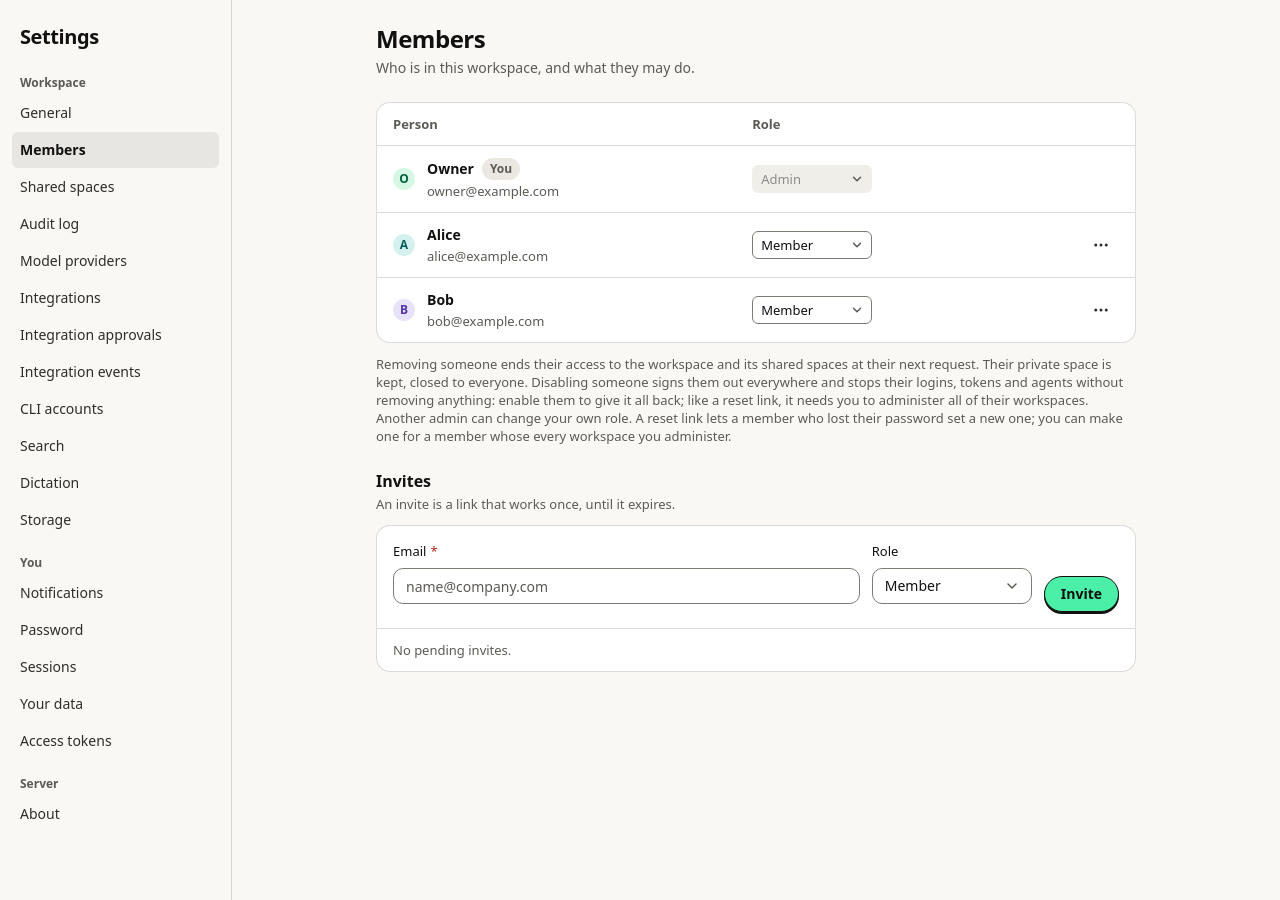
Test case: with password login off, a member has no reset link action
expect the text "alice@example.com" is shown: met, box left=427, top=247, right=548, bottom=265
Click the button named "More actions for Alice" at x=1101, y=245, box left=1083, top=227, right=1119, bottom=263
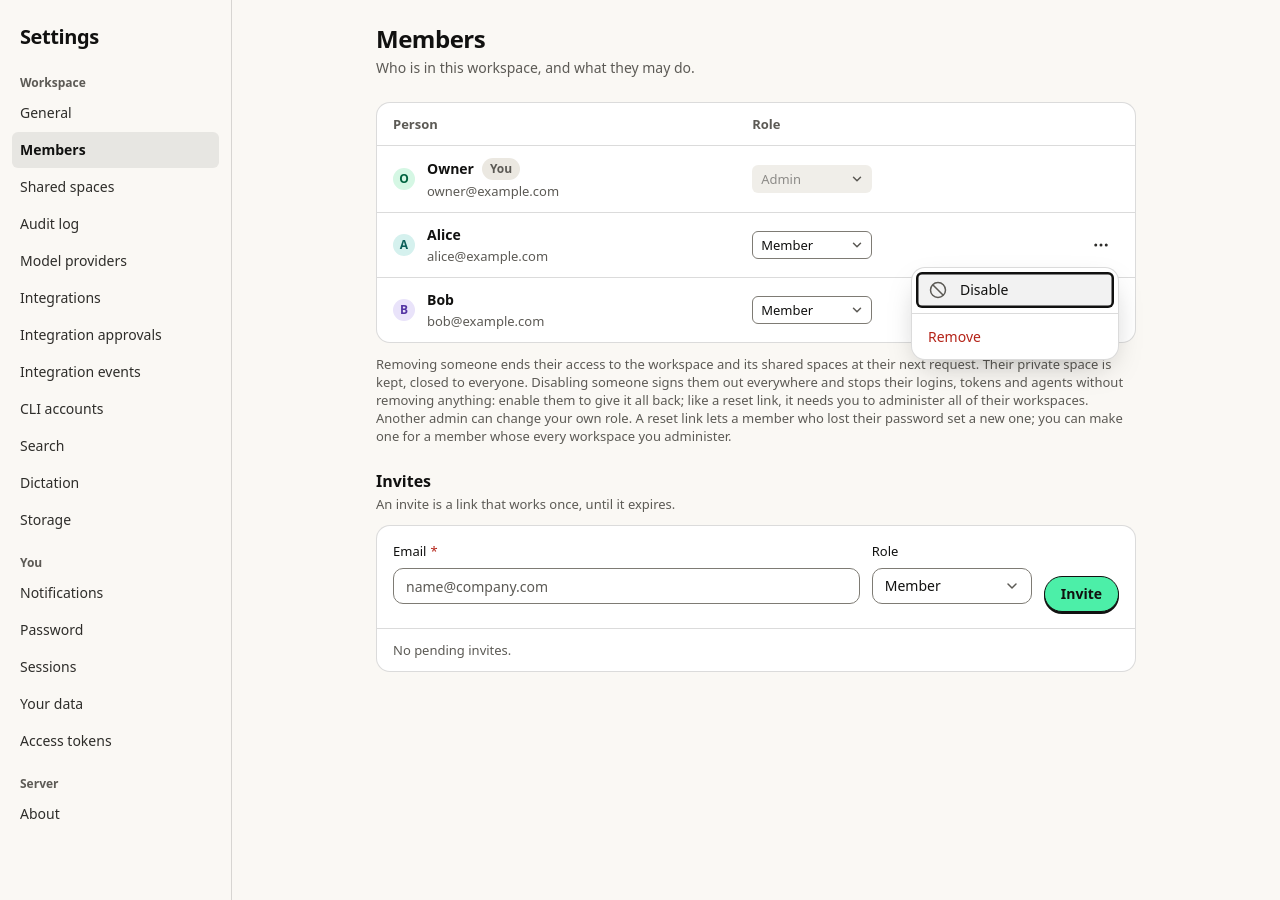
expect the menu item "Remove" is shown: met, box left=916, top=319, right=1114, bottom=355
